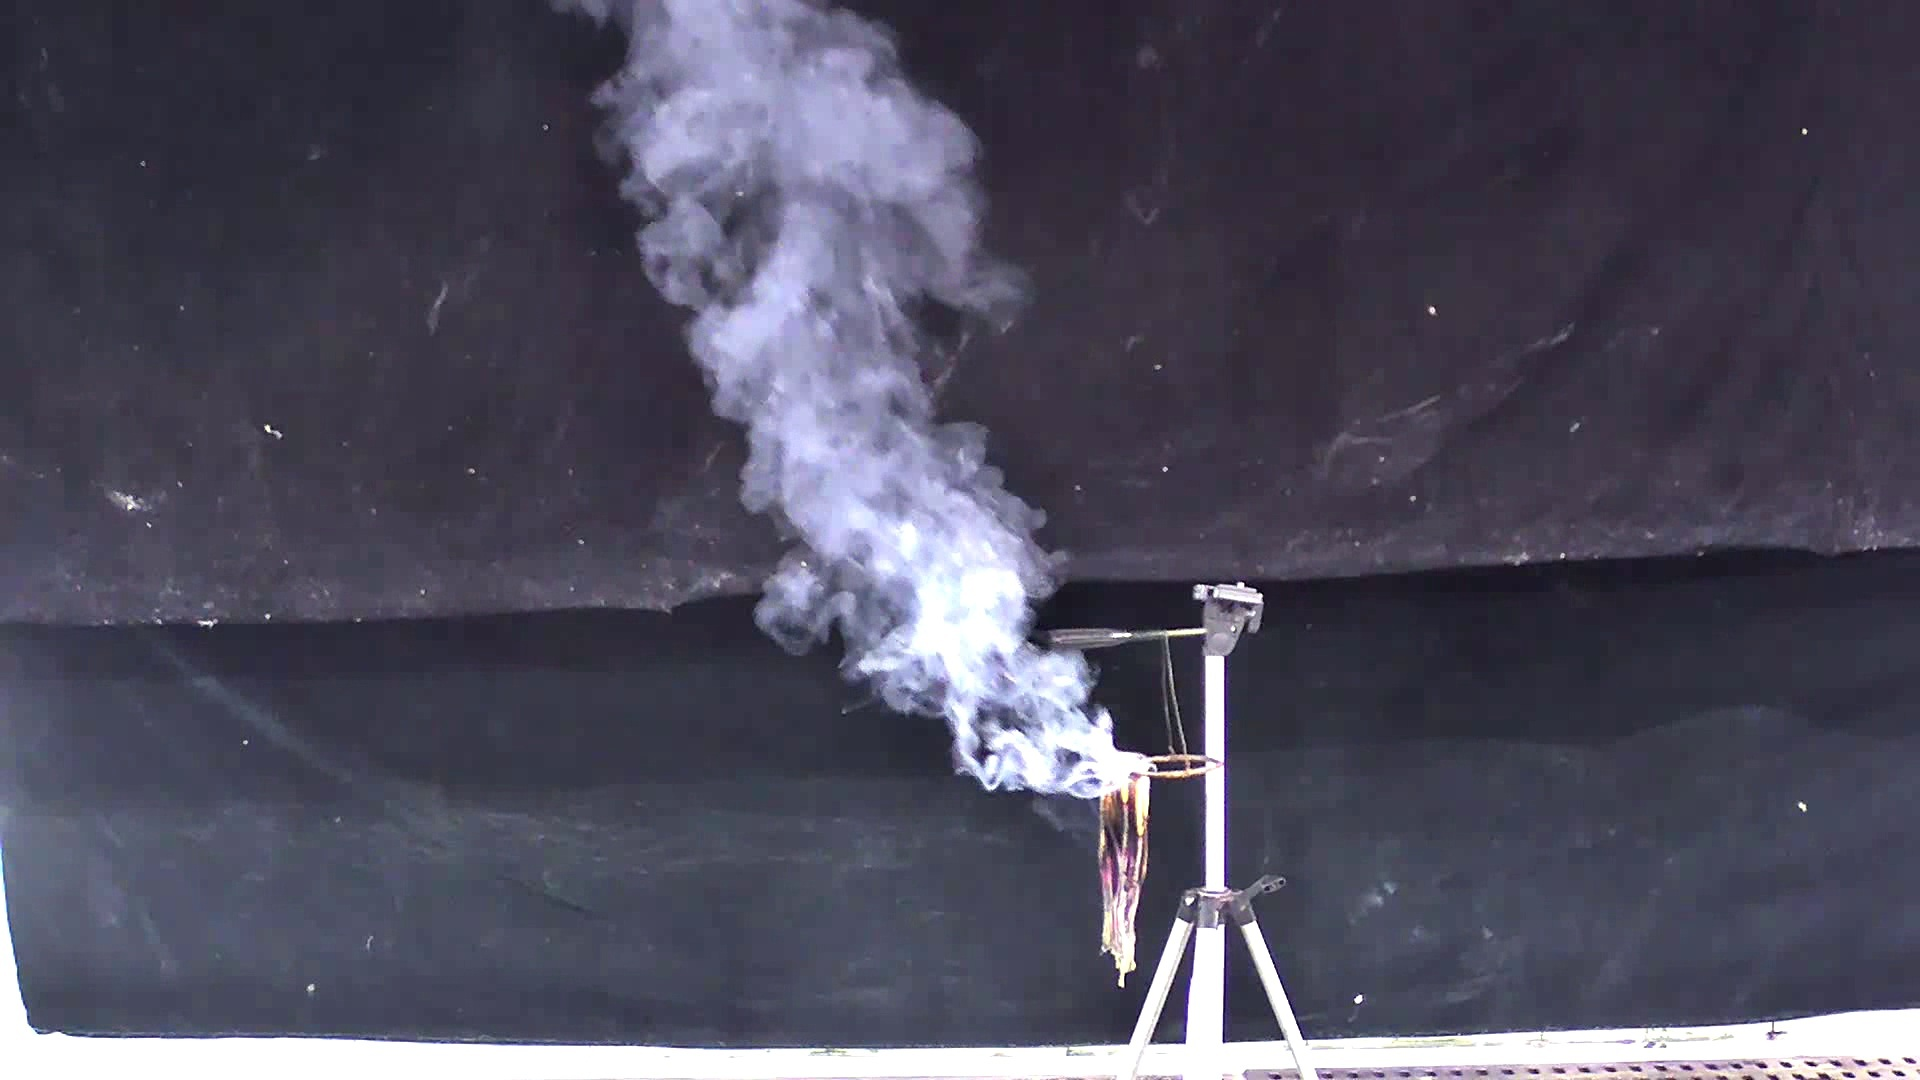smoke: (582, 11, 1150, 795)
